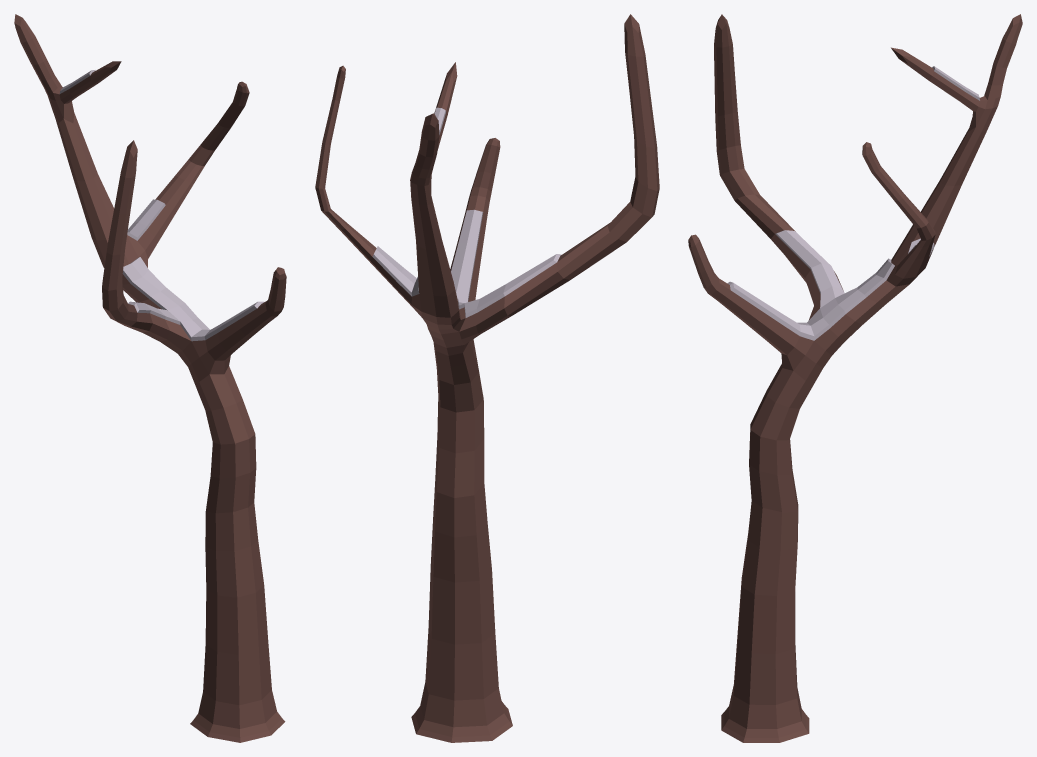
The model's file is commontree_dead_snow_4.glb.
3 renders of one model, left to right at view 1: azimuth 30°, elevation 25°; view 2: azimuth 150°, elevation 25°; view 3: azimuth 270°, elevation 25°, orthographic. The views are drawn at different scales.
Parts seen in each view (by area): view 1: CommonTree_Dead_Snow_4; view 2: CommonTree_Dead_Snow_4; view 3: CommonTree_Dead_Snow_4.
Boxes of the visible parts, x1,y1,x2,y2 form: CommonTree_Dead_Snow_4: (14, 14, 286, 742); CommonTree_Dead_Snow_4: (315, 14, 659, 742); CommonTree_Dead_Snow_4: (688, 14, 1022, 742).
Bounding box in the file's own units: 1.96 × 5.69 × 2.6.
